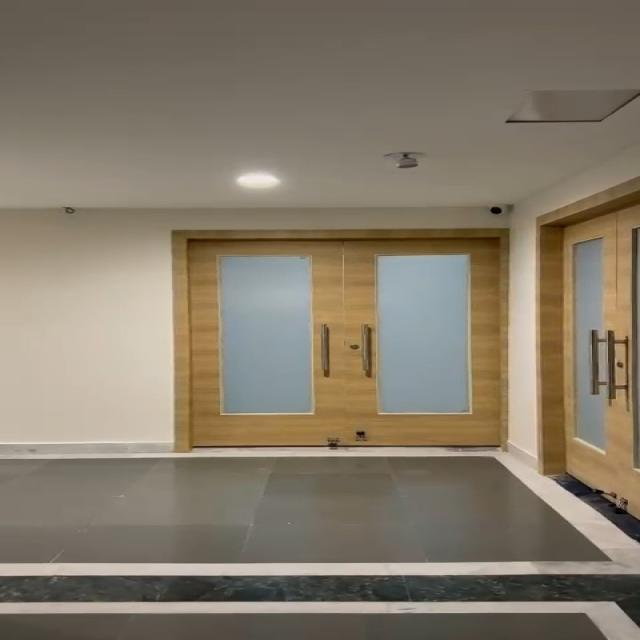door: (177, 225, 516, 454), (528, 199, 640, 500)
floor: (16, 453, 566, 640)
wall: (0, 204, 168, 442)
